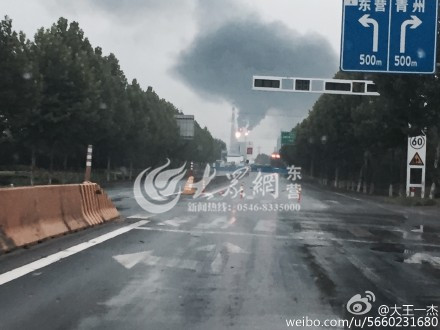dust: (164, 1, 338, 134)
